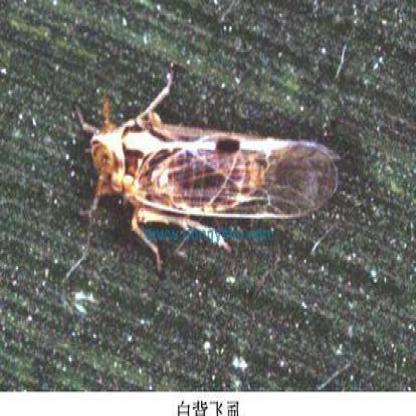brown-planthopper: (92, 106, 342, 221)
